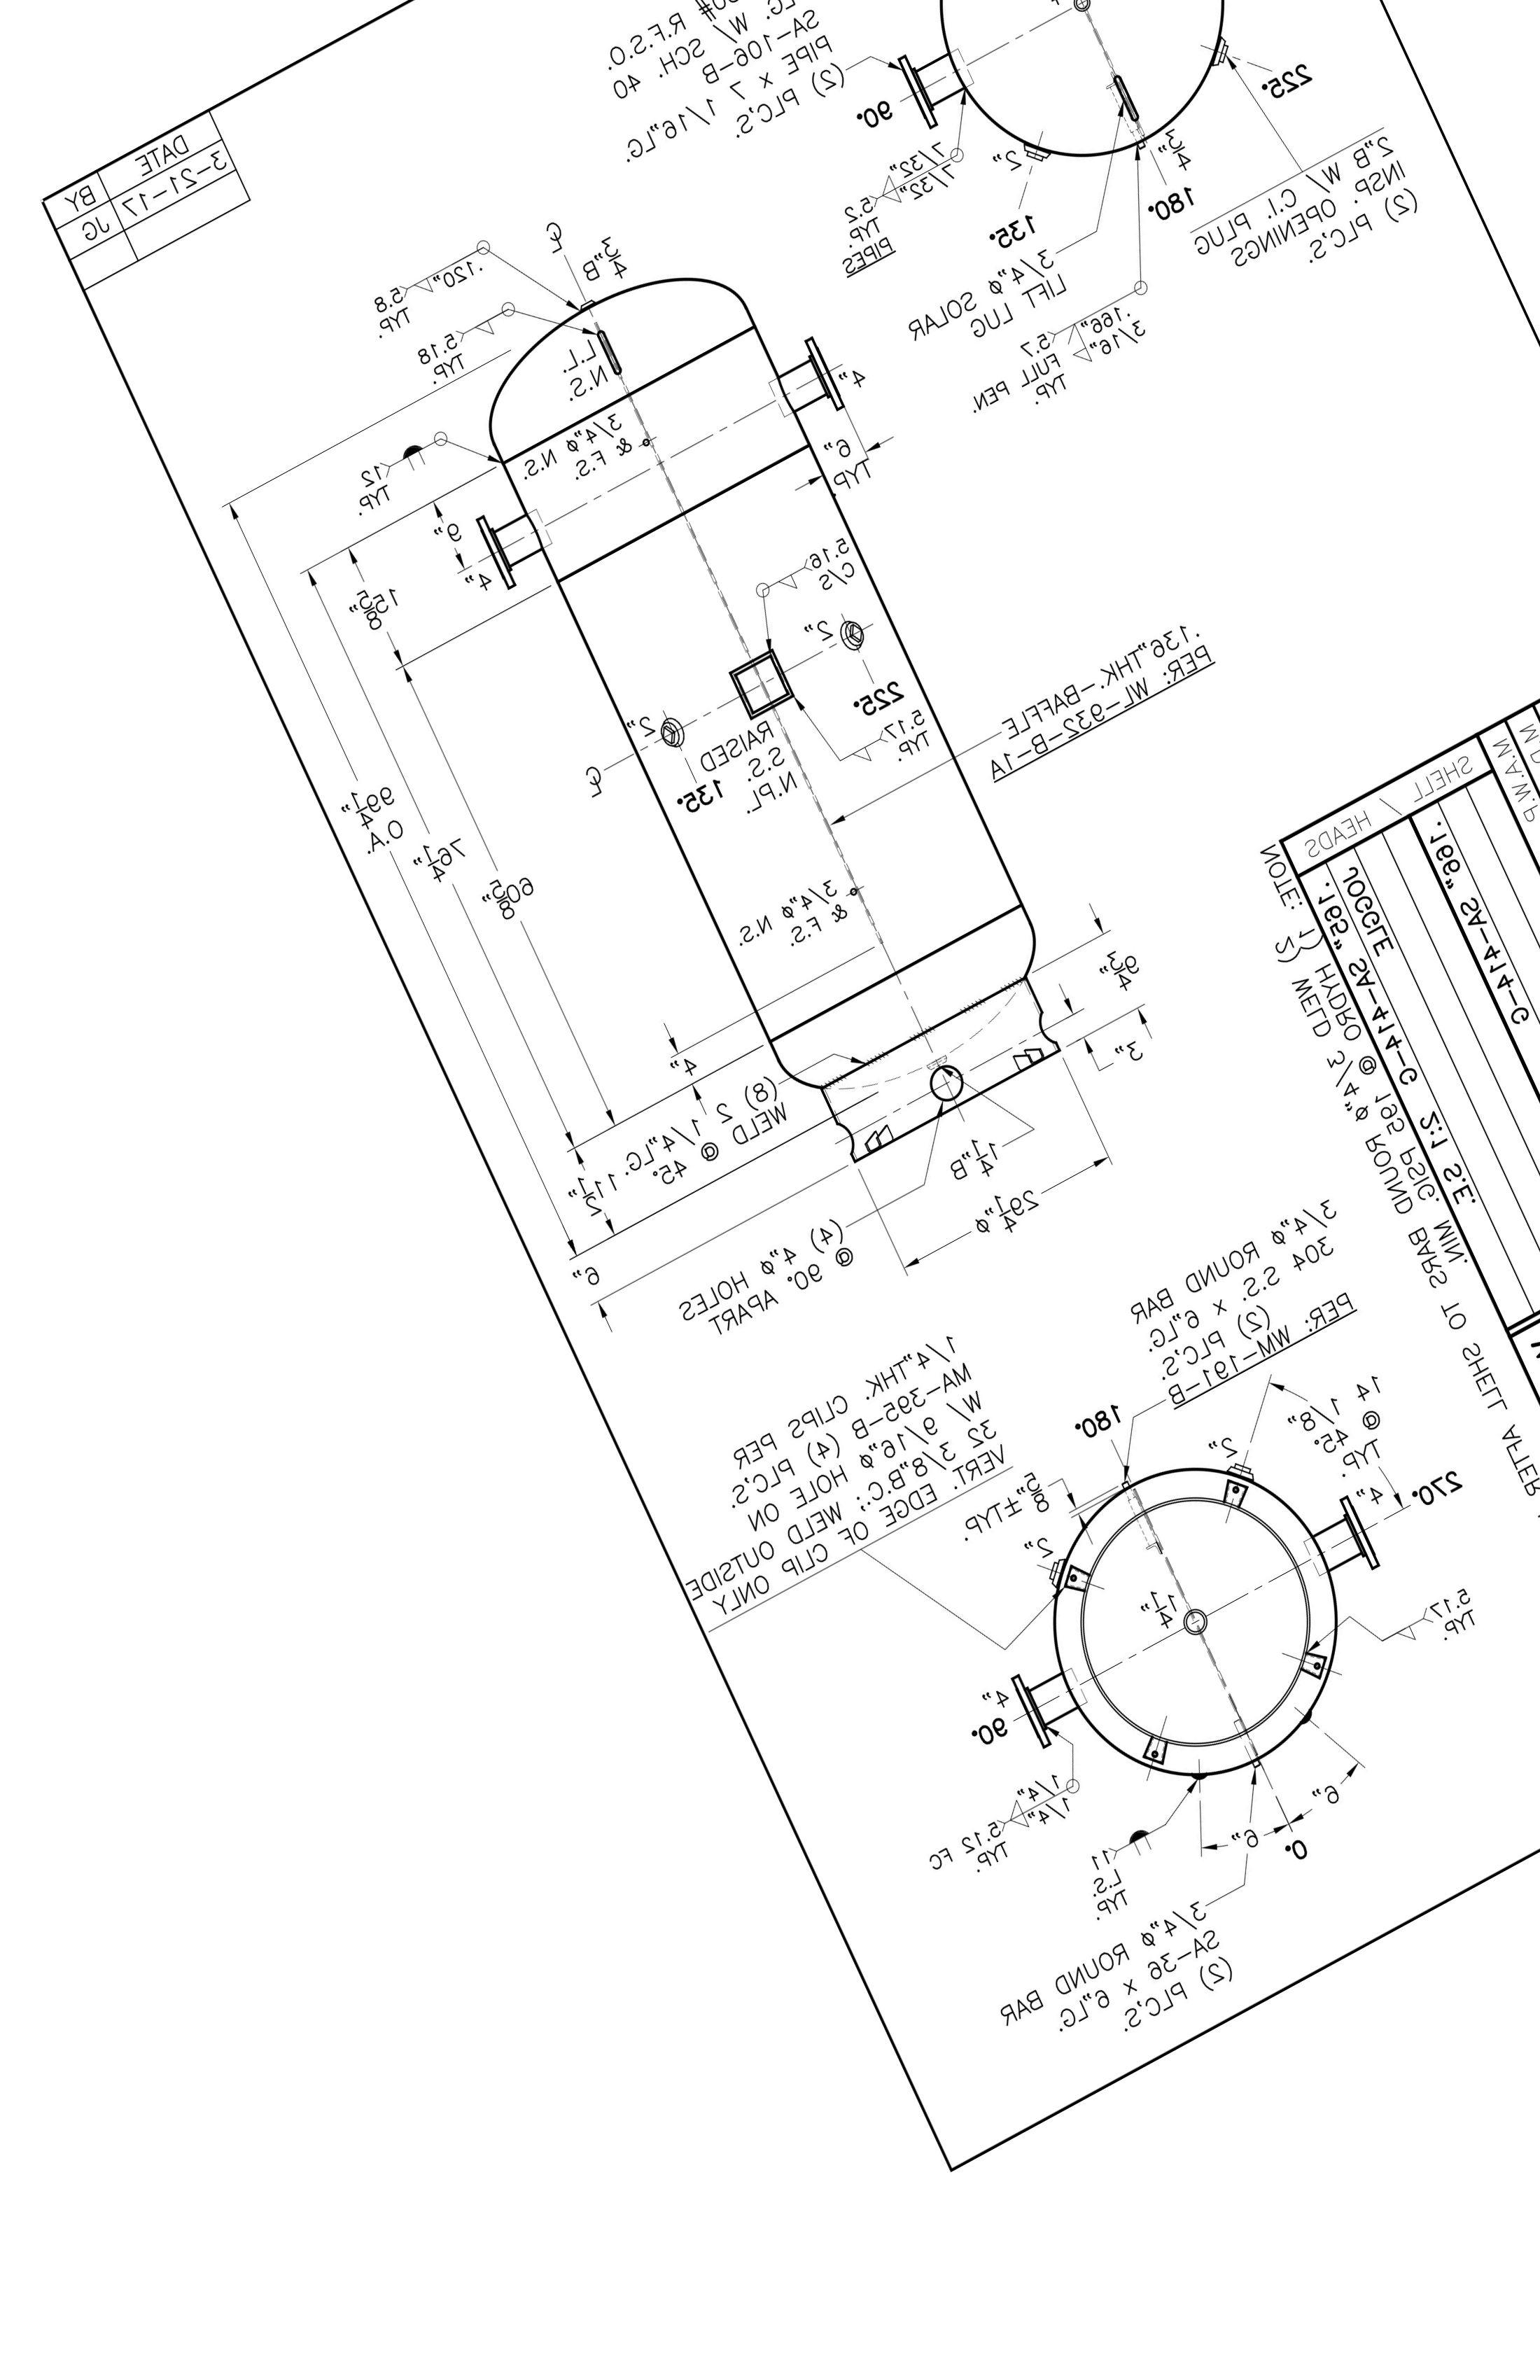Nozzle: (1275, 1483, 1431, 1612), (966, 1639, 1122, 1759), (442, 508, 577, 645), (853, 33, 1006, 144), (754, 342, 862, 432)
